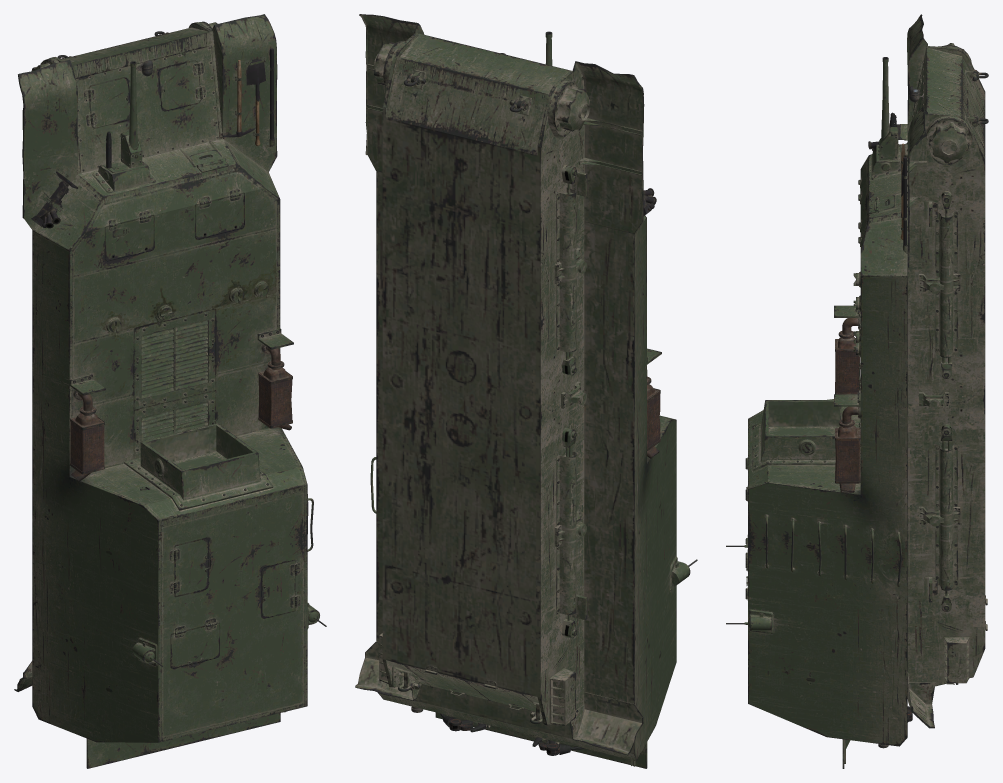
File: Hull.glb
3 renders of one model, left to right at view 1: azimuth 30°, elevation 25°; view 2: azimuth 150°, elevation 25°; view 3: azimuth 270°, elevation 25°, orthographic. The views are drawn at different scales.
Parts seen in each view (by area): view 1: set_0_group_0; view 2: set_0_group_0; view 3: set_0_group_0.
Part boxes in pixels (x1,y1,x2,y2): set_0_group_0: (14, 14, 326, 768); set_0_group_0: (355, 14, 697, 768); set_0_group_0: (726, 14, 988, 768).
Size of the model in its own units: 3.1 by 7.84 by 2.86.
1 material, 1 textured.
